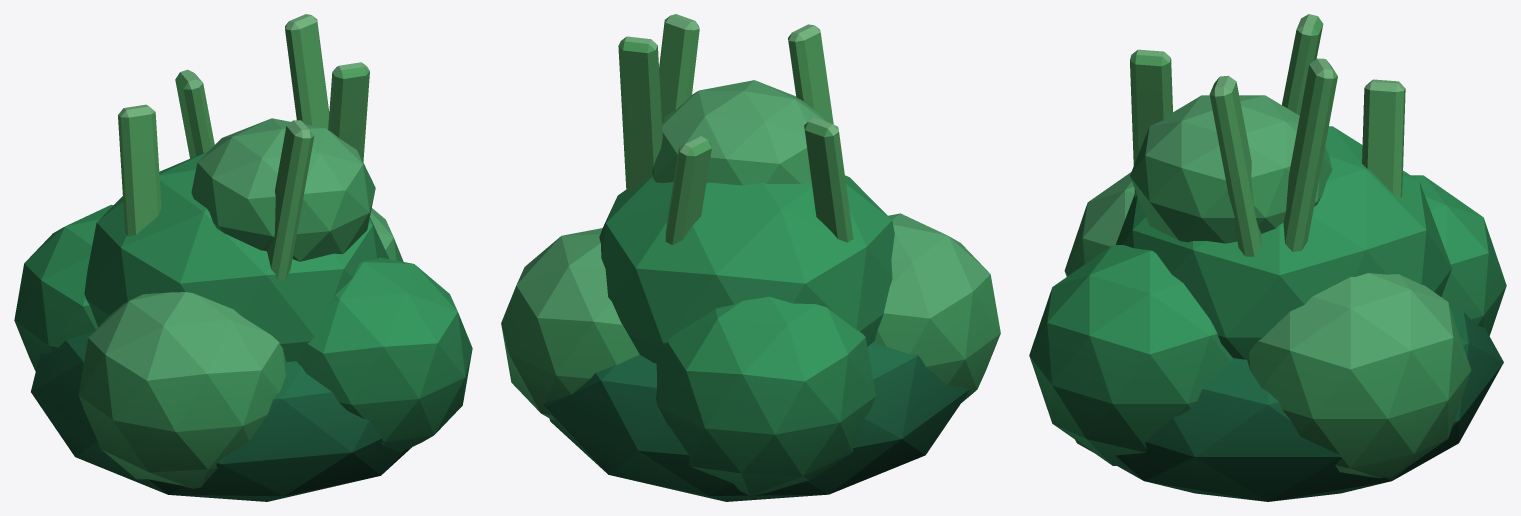
Rendered from seagrass-bush.glb.
The picture shows the model from 3 angles, left to right: view 1: azimuth 30°, elevation 25°; view 2: azimuth 150°, elevation 25°; view 3: azimuth 270°, elevation 25°; orthographic projection. The views are drawn at different scales.
Parts seen in each view (by area): view 1: mesh_seagrass_bush; view 2: mesh_seagrass_bush; view 3: mesh_seagrass_bush.
Boxes of the visible parts, x1,y1,x2,y2 form: mesh_seagrass_bush: [14, 14, 472, 501]; mesh_seagrass_bush: [501, 14, 1000, 501]; mesh_seagrass_bush: [1029, 14, 1506, 501].
Bounding box in the file's own units: 0.809 × 0.8571 × 0.8296.
